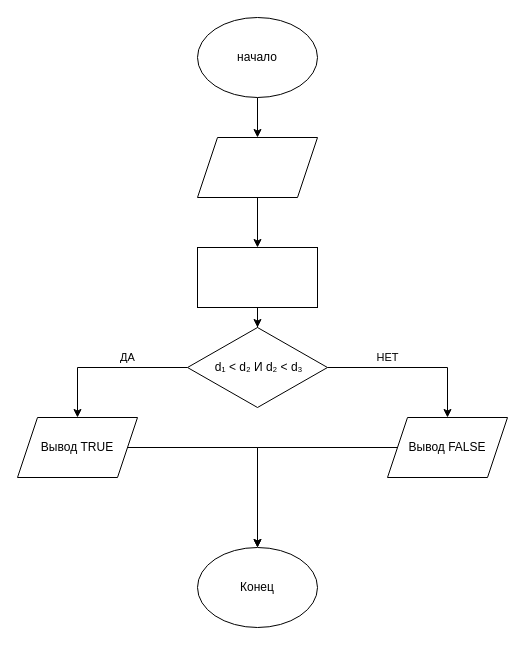
This 525x645 diagram has some shape labels left out. Here are the shapes that lost their labels. From the top down, the centre of each, then its label:
point (257, 167): Ввод N
point (257, 277): d₁ = N / 100 d₂ = (N (mod 100)) / 10 d₃ = N (mod 10)
